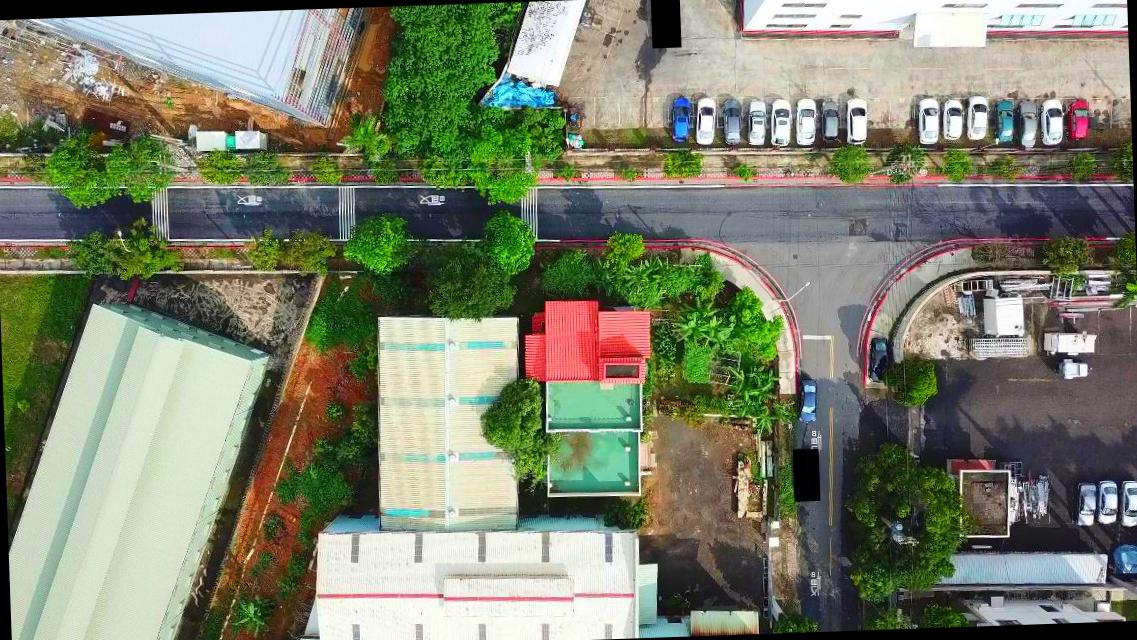vehicle: (914, 97, 942, 147), (767, 96, 793, 148), (692, 94, 717, 148), (843, 98, 870, 146), (718, 98, 744, 146), (963, 94, 989, 142), (1016, 98, 1040, 150), (867, 336, 892, 384), (1072, 482, 1098, 528), (1040, 98, 1064, 146), (668, 96, 691, 144), (746, 98, 769, 146), (795, 97, 817, 147), (796, 376, 818, 425), (1096, 478, 1118, 526), (993, 98, 1016, 143), (818, 98, 840, 144), (1065, 100, 1089, 142), (1118, 478, 1136, 531), (942, 98, 963, 142)
